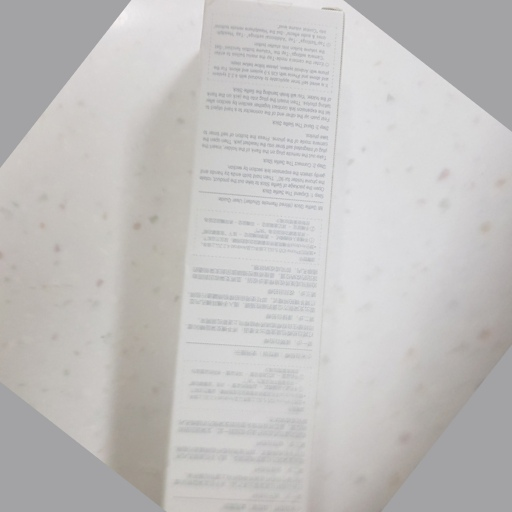Paper_0: (161, 1, 356, 512)
